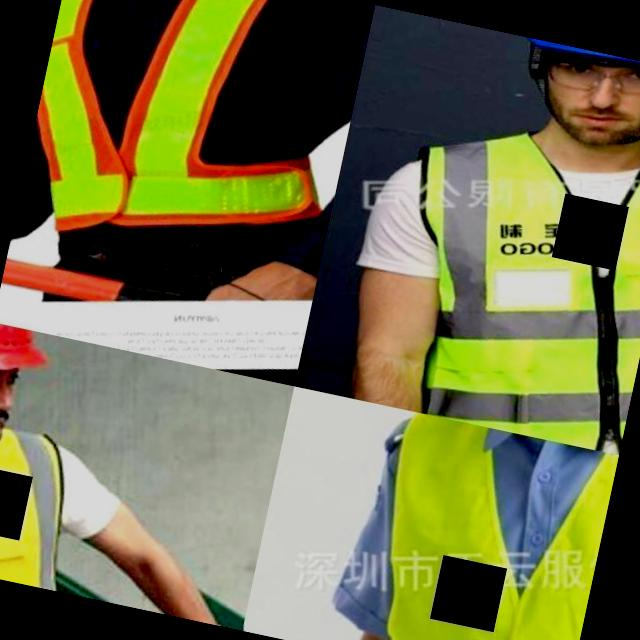vest: (10, 0, 375, 303), (381, 79, 640, 455), (325, 403, 618, 640), (0, 410, 129, 600)
